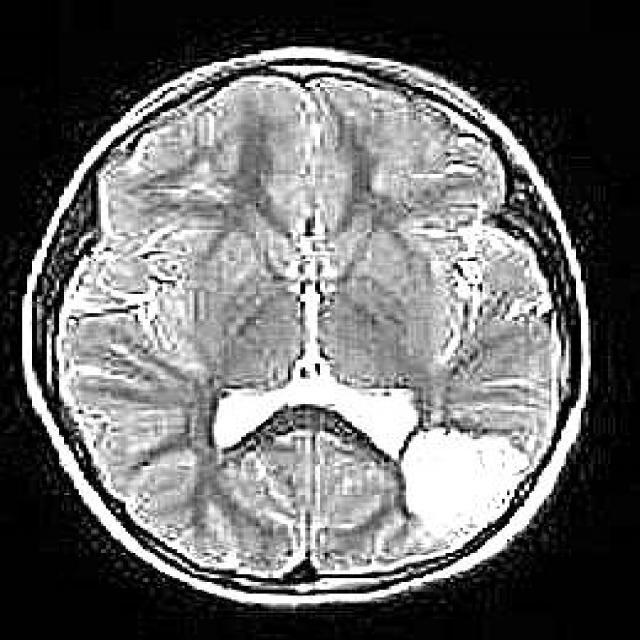Tumor: (389, 415, 547, 549)
